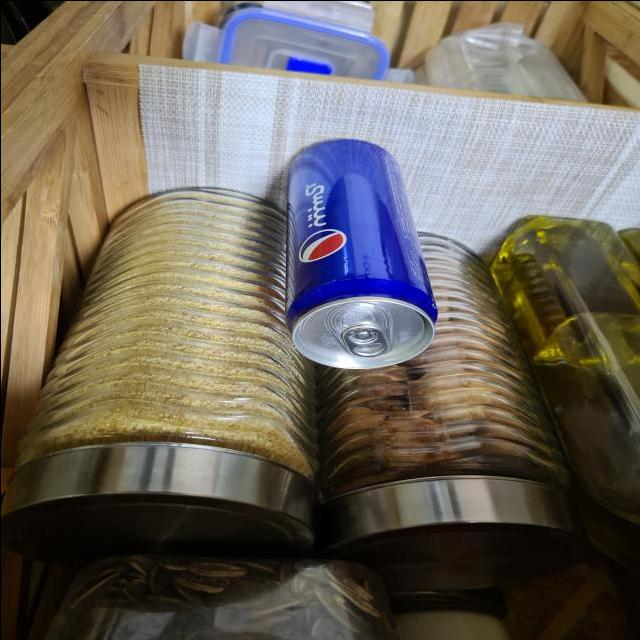can: (272, 138, 430, 366)
